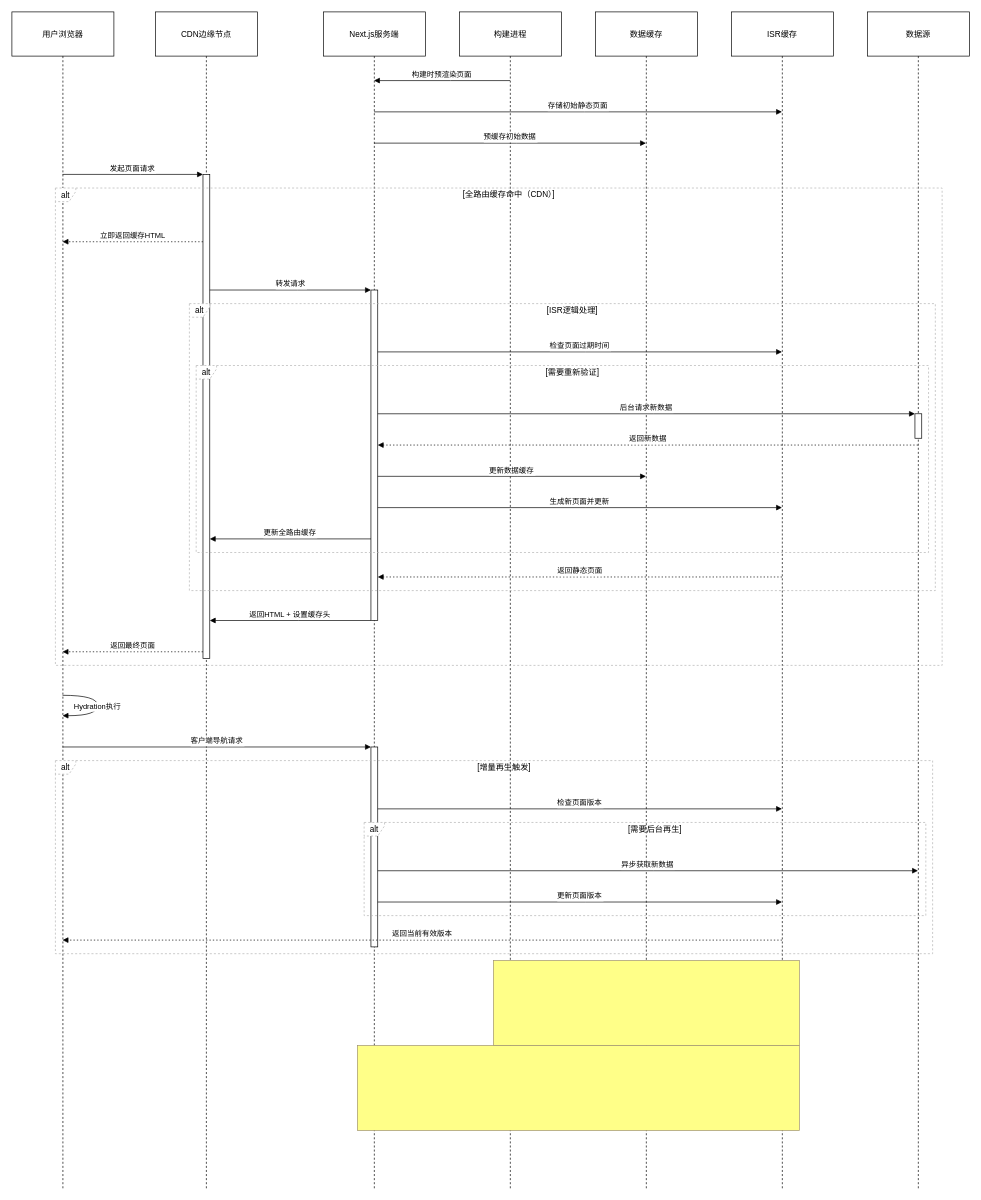
The diagram is 981 pixels wide and 1200 high, and some of its shapes have lost their labels. Each missing label, with the centre of its shape:
"ISR工作原理： - 初始构建生成静态页面 - 通过revalidate设置有效期 - 过期后下次访问触发后台再生 - 支持按需手动刷新" goes at (x=578, y=1087).
"Next.js缓存架构核心组件： 1. 数据缓存（内存/Redis） 2. 全路由缓存（CDN） 3. ISR存储（持久化存储） 4. 客户端缓存（SWR）" goes at (x=646, y=1003).
